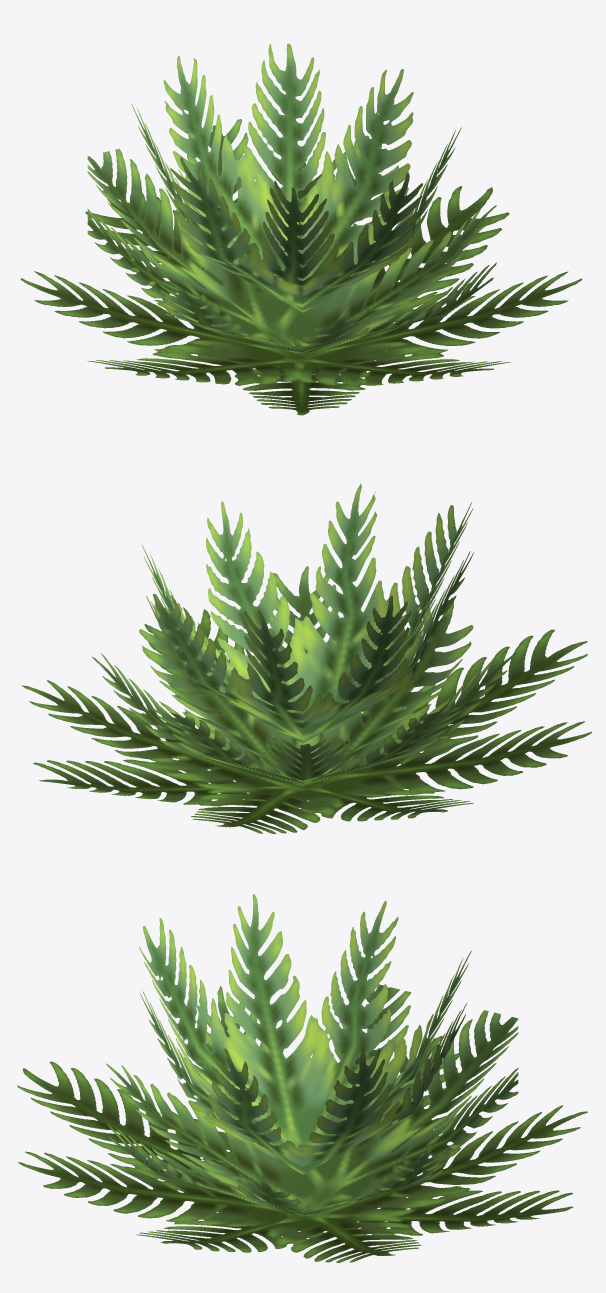
The model's file is SeaWeed_11.FBX.
3 views of the same model, one above another, from view 1: azimuth 30°, elevation 25°; view 2: azimuth 150°, elevation 25°; view 3: azimuth 270°, elevation 25° (orthographic).
Parts seen in each view (by area): view 1: SeaWeed_11; view 2: SeaWeed_11; view 3: SeaWeed_11.
Part boxes in pixels (x1=…): SeaWeed_11: x1=20, y1=43, x2=582, y2=415; SeaWeed_11: x1=21, y1=483, x2=591, y2=833; SeaWeed_11: x1=17, y1=894, x2=587, y2=1262.
Size of the model in its own units: 37.49 by 15.9 by 32.47.
